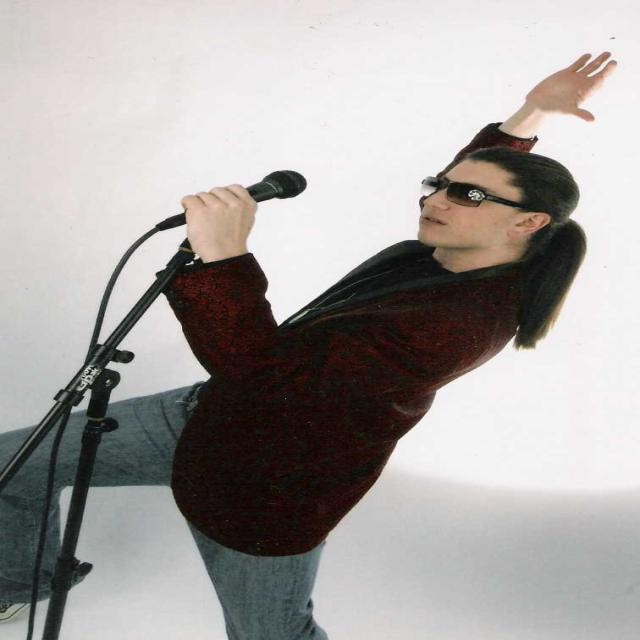microphone: (155, 169, 312, 233)
